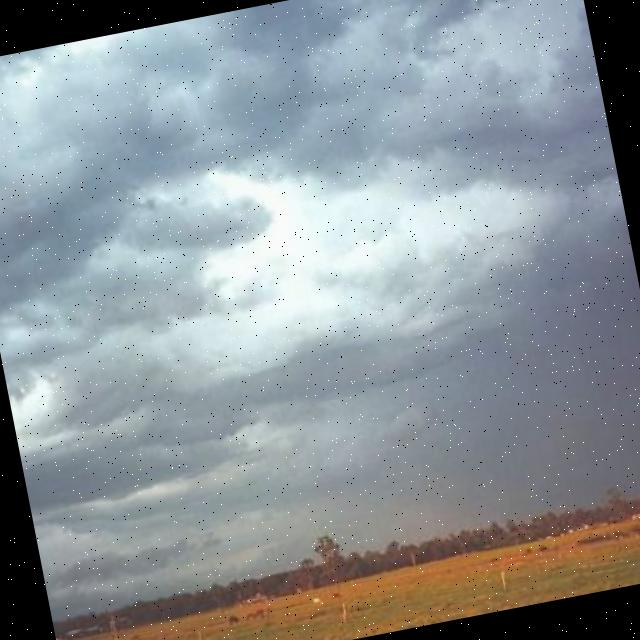St: (1, 1, 640, 554)
